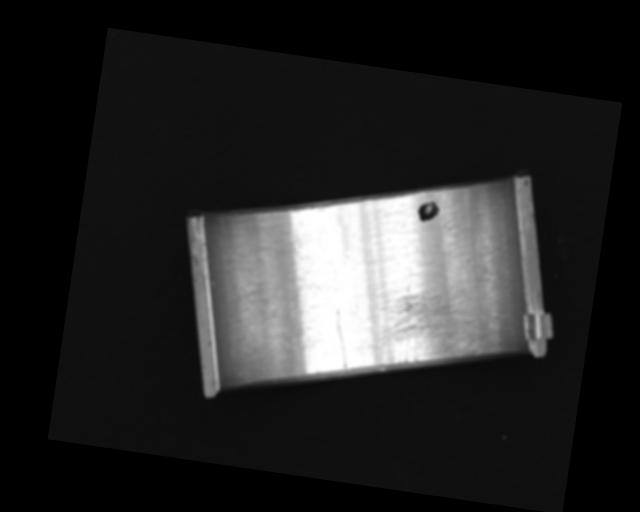blot: (416, 199, 441, 224)
nick: (207, 213, 262, 305), (326, 306, 354, 368)
scratch: (374, 282, 489, 382)
